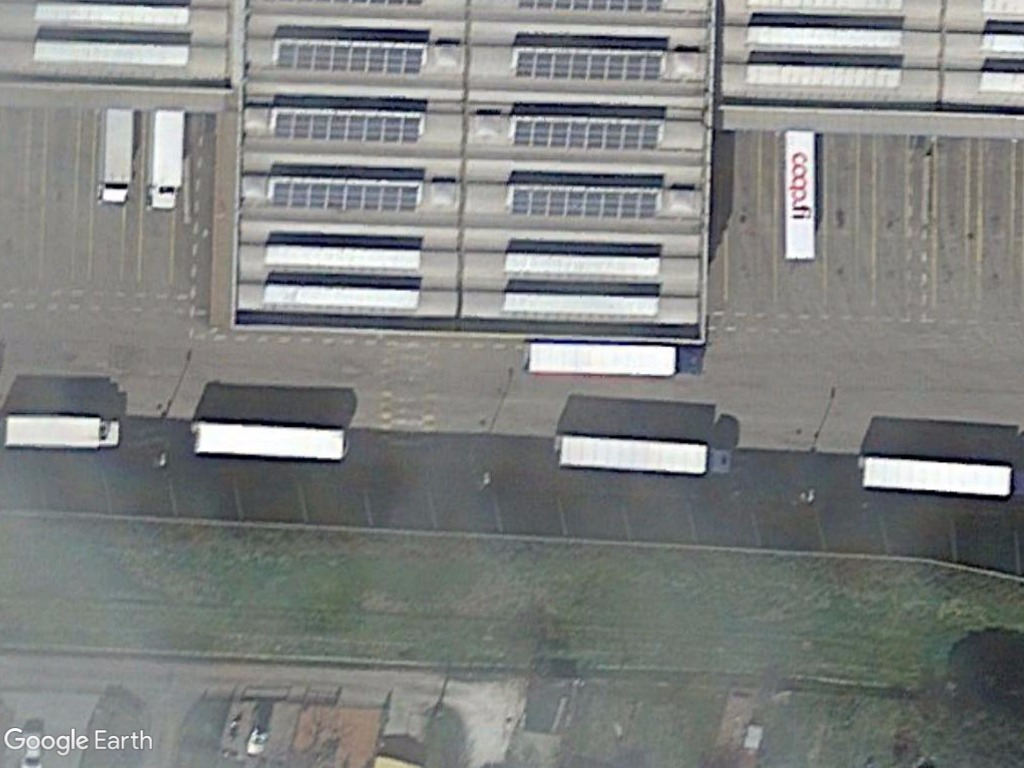longvehicle: (549, 429, 737, 481), (855, 452, 1024, 504), (519, 339, 710, 381)
truck: (0, 410, 123, 452), (145, 108, 190, 214), (98, 108, 138, 205)
